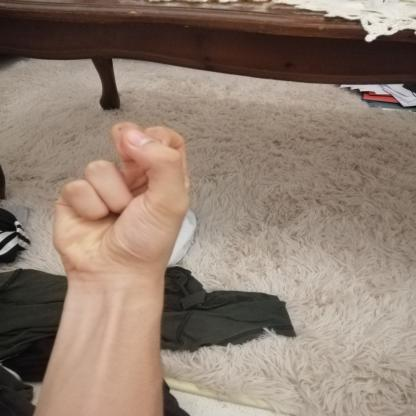QAAF: (36, 112, 207, 290)
